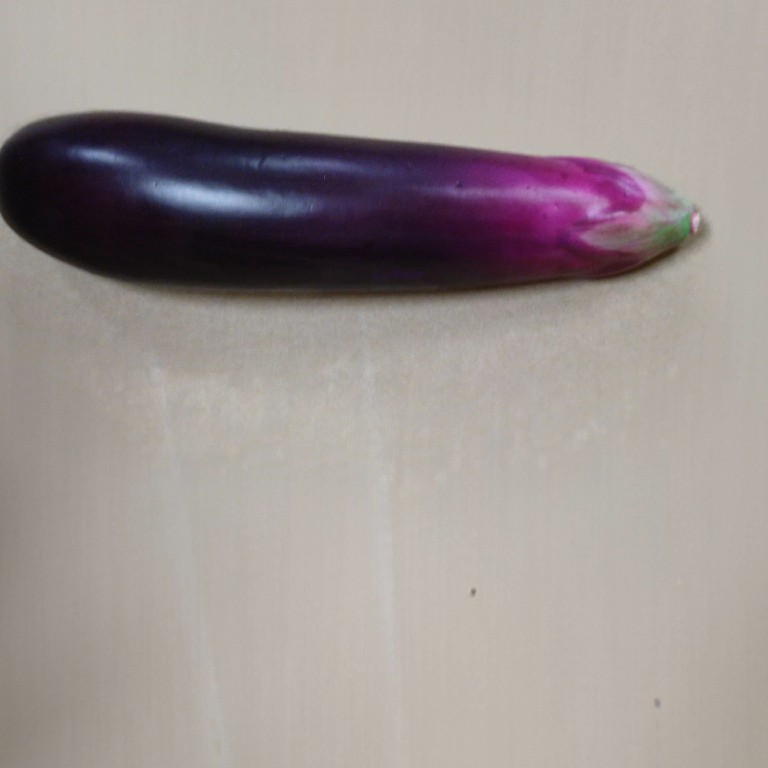fruit_eggplant: (1, 107, 709, 301)
